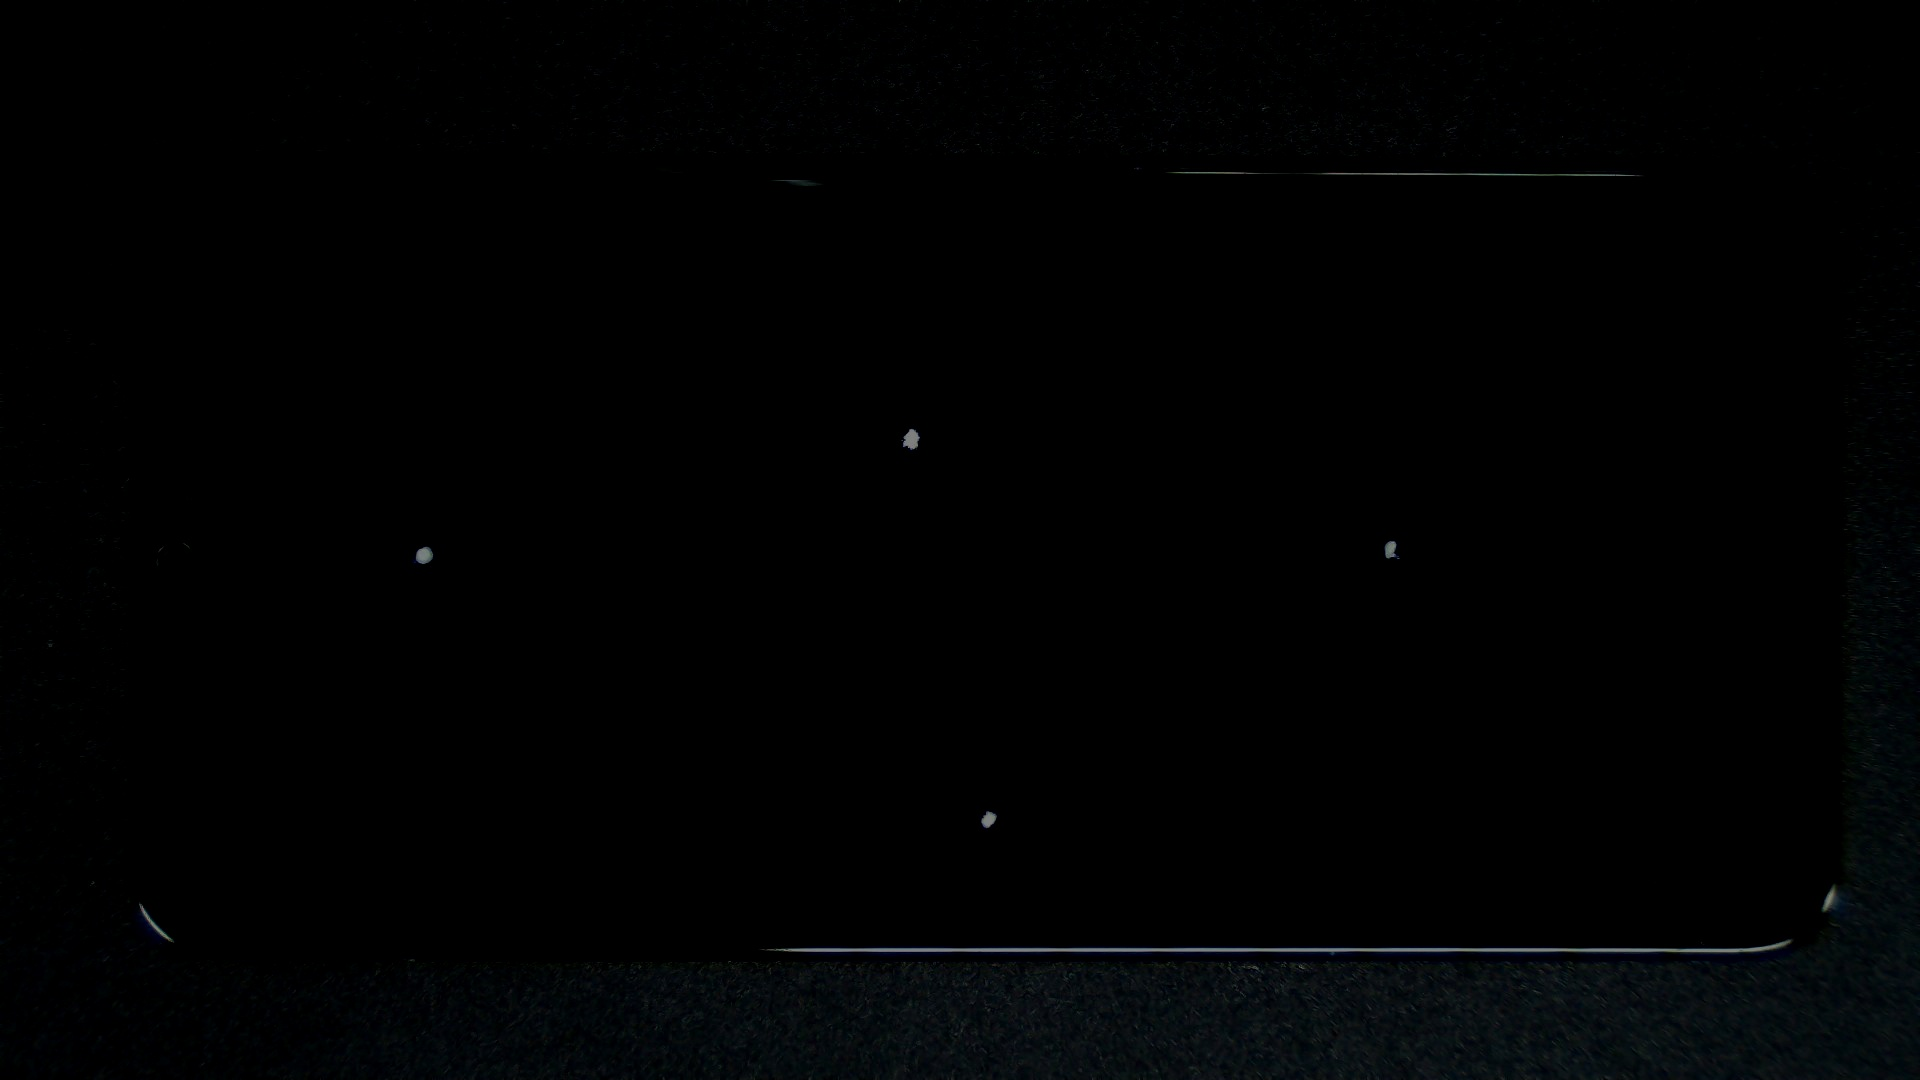oil: (493, 404, 1477, 1080), (696, 269, 1920, 808), (455, 214, 1364, 641), (214, 272, 637, 818)
